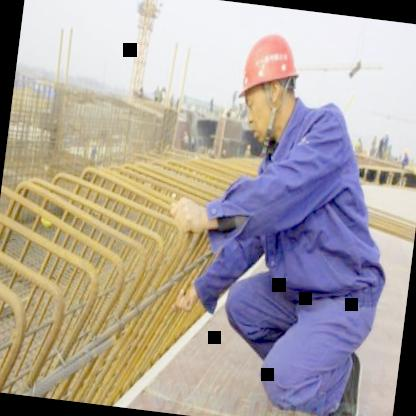helmet: (224, 21, 312, 141)
